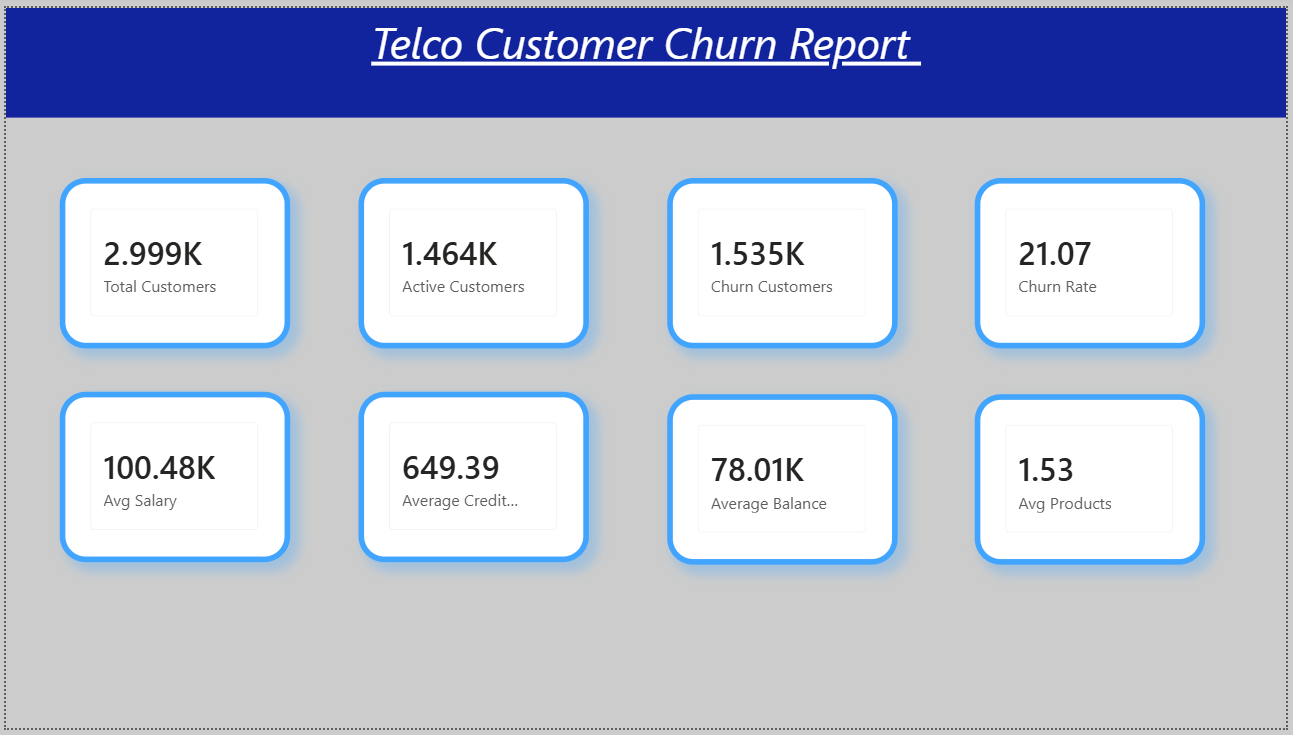

The page's visual inventory and layout, read from the dashboard file:
{"tool":"powerbi","page":{"name":"Page 1","canvas":[1280,720],"ordinal":0},"visuals":[{"type":"textbox","box":[0,0,1280.3,109.8],"z":0},{"type":"cardVisual","fields":{"Data":["CountNonNull(Sheet1.Surname)"]},"box":[54.3,170,230,170],"z":1000},{"type":"cardVisual","fields":{"Data":["CountNonNull(Sheet1.IsActiveMember)"]},"box":[352.9,170,230,170],"z":2000},{"type":"cardVisual","fields":{"Data":["CountNonNull(Sheet1.IsActiveMember)"]},"box":[661.4,170,230,170],"z":3000},{"type":"cardVisual","fields":{"Data":["Sheet1.Churn Rate"]},"box":[968.6,170,230,170],"z":4000},{"type":"cardVisual","fields":{"Data":["Sheet1.Average Balance"]},"box":[661.4,385.7,230,170],"z":5000},{"type":"cardVisual","fields":{"Data":["Sheet1.Avg Salary"]},"box":[54.3,384.3,230,170],"z":6000},{"type":"cardVisual","fields":{"Data":["Sheet1.Average Credit Score"]},"box":[352.9,384.3,230,170],"z":7000},{"type":"cardVisual","fields":{"Data":["Sheet1.Avg Products"]},"box":[968.6,385.7,230,170],"z":8000}]}

Visuals, with their boxes in screenshot pixels (x1, y1, x2, y2), scaled from the page's 1280x720 canvas onto the 1293x735 screenshot:
textbox: 0:0:1292:112
cardVisual - CountNonNull(Sheet1.Surname): 55:174:287:347
cardVisual - CountNonNull(Sheet1.IsActiveMember): 356:174:589:347
cardVisual - CountNonNull(Sheet1.IsActiveMember): 668:174:900:347
cardVisual - Sheet1.Churn Rate: 978:174:1211:347
cardVisual - Sheet1.Average Balance: 668:394:900:567
cardVisual - Sheet1.Avg Salary: 55:392:287:566
cardVisual - Sheet1.Average Credit Score: 356:392:589:566
cardVisual - Sheet1.Avg Products: 978:394:1211:567
